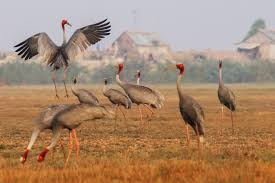seu_dau_do: (13, 17, 110, 96), (36, 105, 103, 165), (166, 60, 207, 148), (19, 105, 76, 166), (114, 61, 162, 125), (215, 58, 239, 136)
